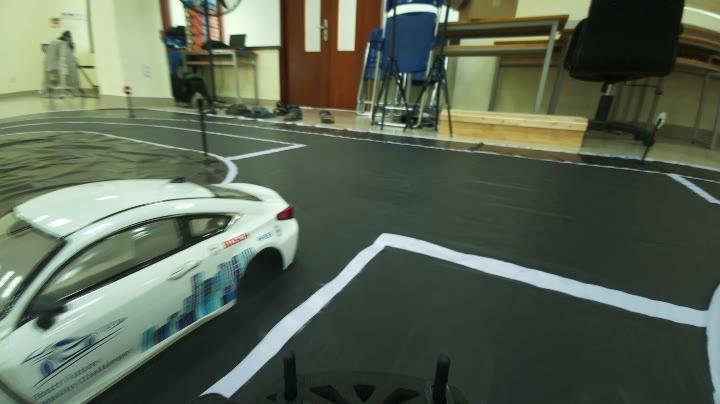car: (3, 164, 298, 392)
